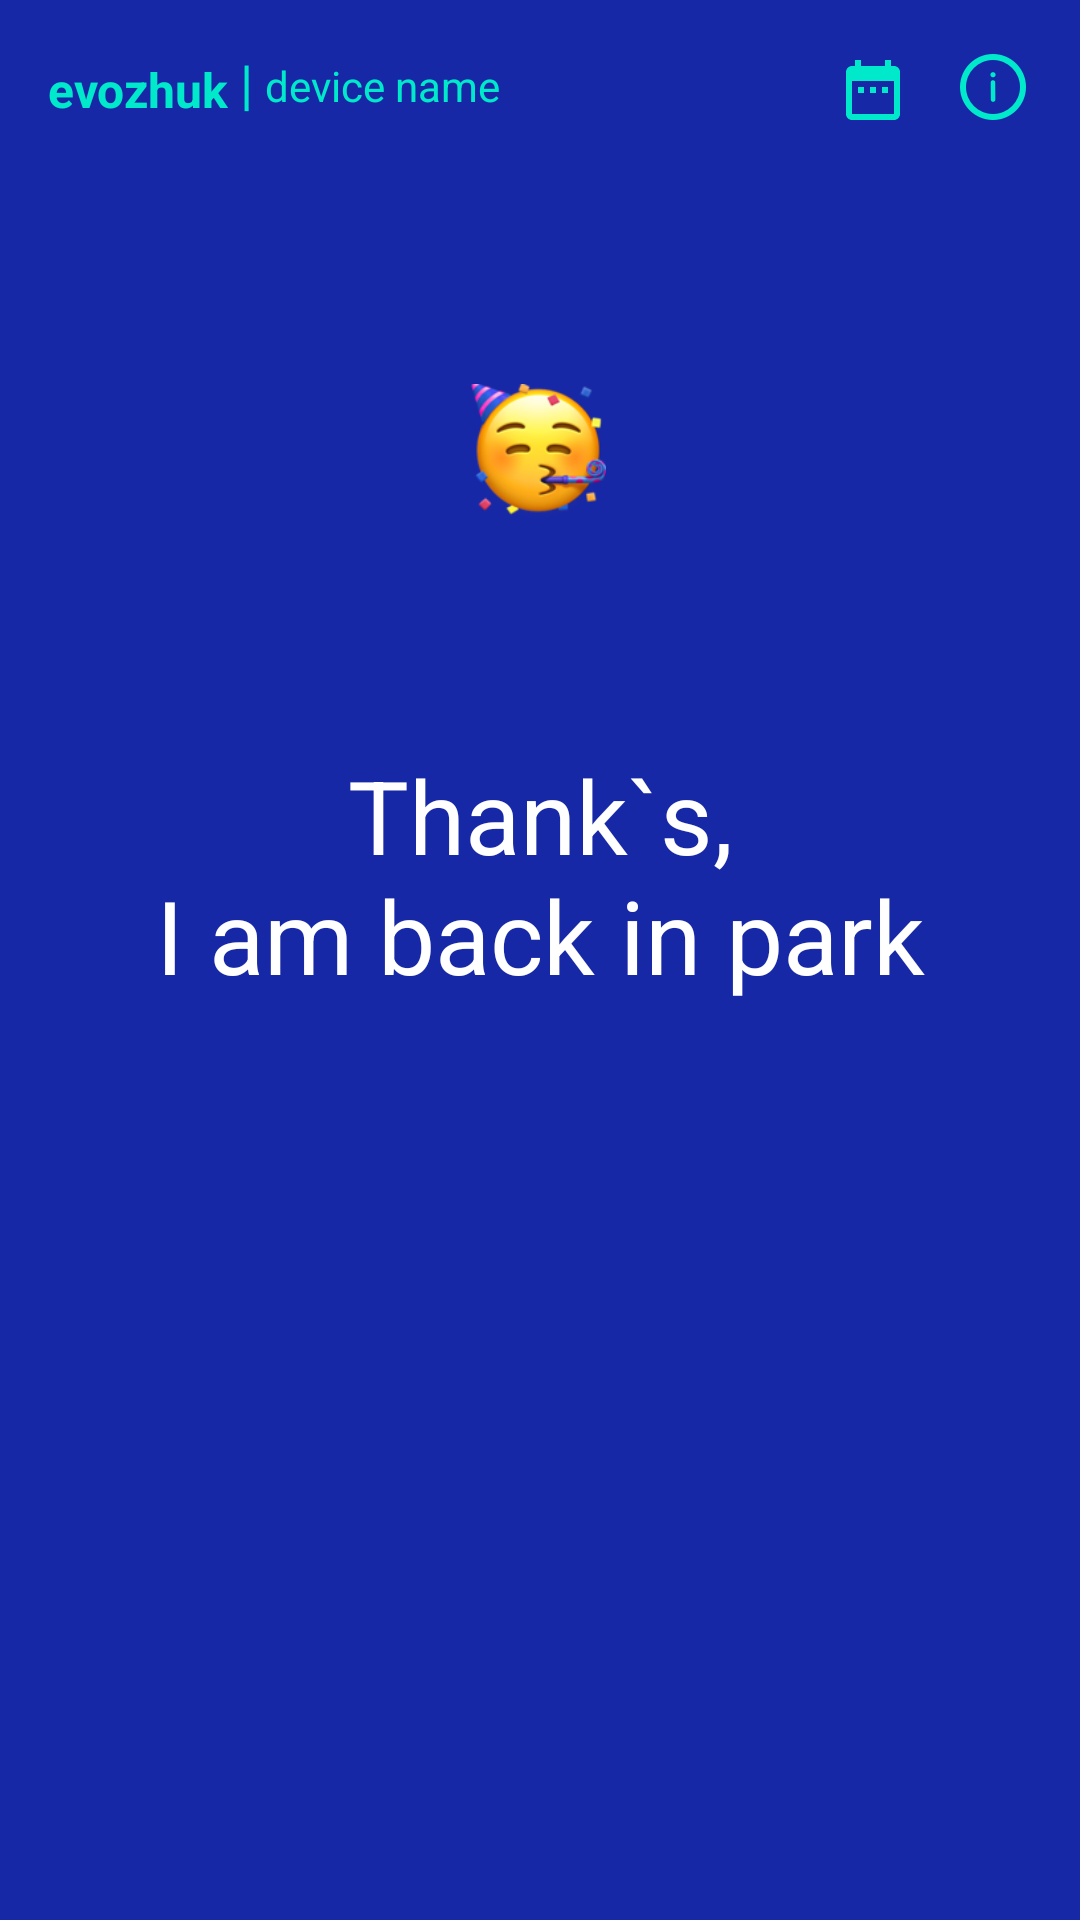

Where to tap for icons on this 1080px×1920px app screen, as [x,y]:
date range: [873,90]
info: [993,87]
thanks: [538,449]
